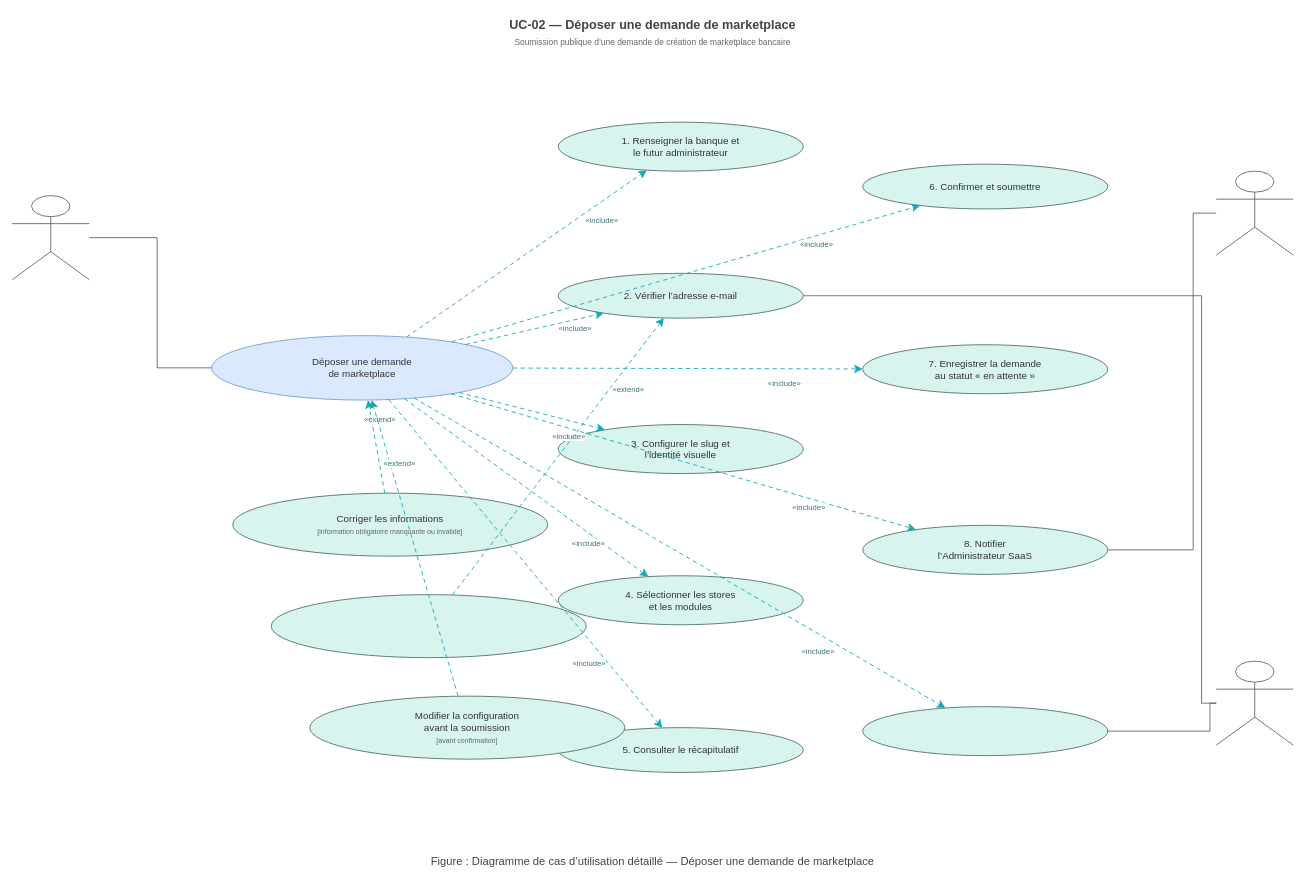
Image size: 1306x885. Some labels were removed from this diagram. The shapes that lost their labels are listed below. From the top down, each one's centre as x and y in pixels, then its label:
At pixel 1254 212: "Administrateur SaaS «système externe»".
At pixel 50 237: "Représentant de la banque".
At pixel 428 626: "Renvoyer le code de vérification [code incorrect ou expiré]".
At pixel 1254 702: "Service e-mail «système externe»".
At pixel 985 731: "9. Envoyer l’e-mail de confirmation".
